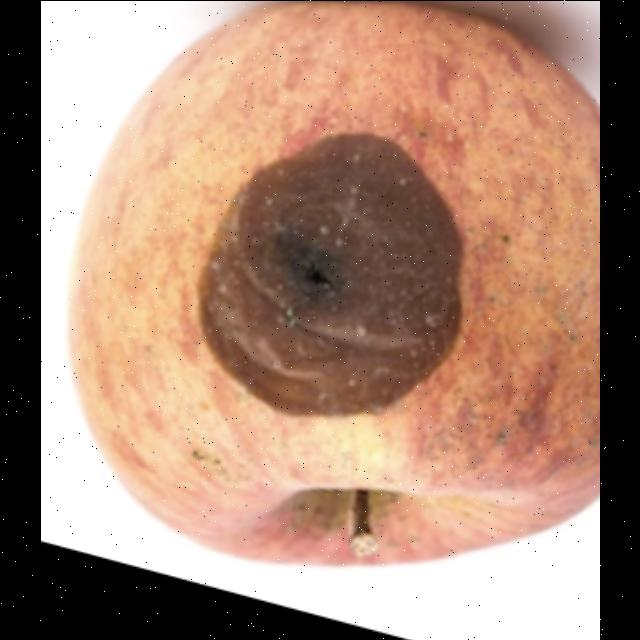Apel Tidak Segar: (57, 1, 598, 576)
